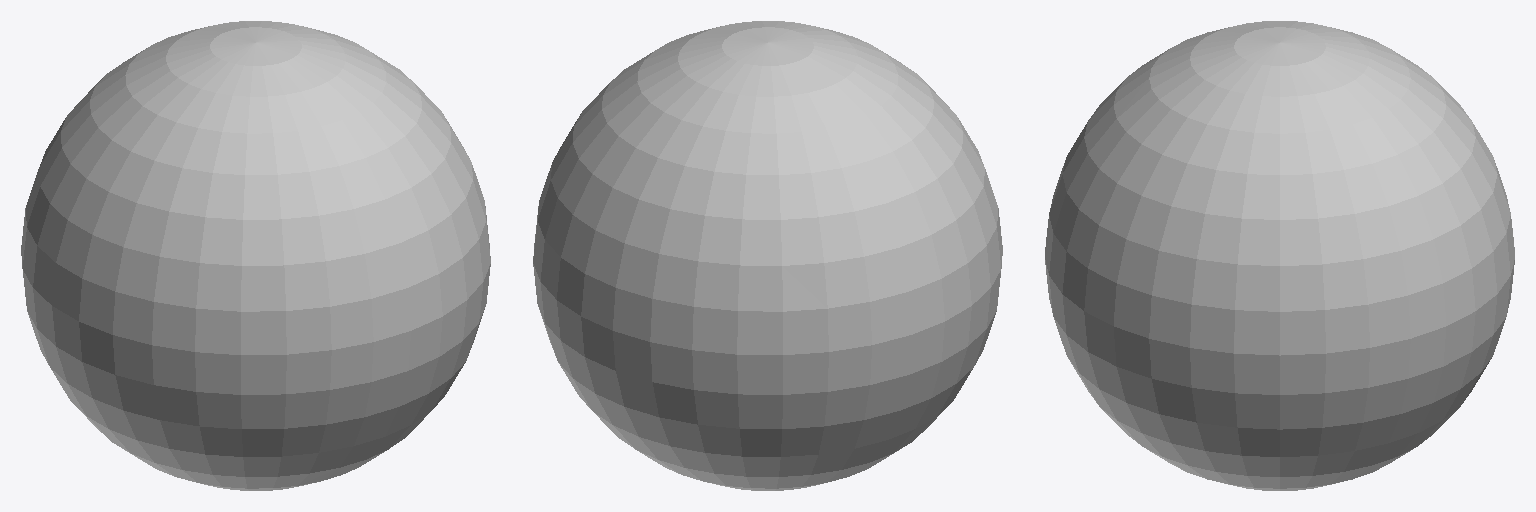
Rendered from fireOrb1.obj.
The picture shows the model from 3 angles: view 1: azimuth 30°, elevation 25°; view 2: azimuth 150°, elevation 25°; view 3: azimuth 270°, elevation 25°; orthographic projection.
Parts seen in each view (by area): view 1: Sphere; view 2: Sphere; view 3: Sphere.
Part boxes in pixels (x1,y1,x2,y2): Sphere: (21,21,490,490); Sphere: (533,21,1002,490); Sphere: (1045,21,1514,490).
Size of the model in its own units: 0.1788 by 0.1788 by 0.1788.